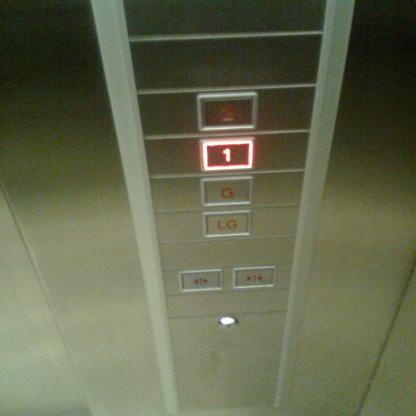1: (198, 136, 256, 172)
2: (194, 91, 258, 131)
G: (199, 176, 253, 207)
LG: (202, 209, 252, 238)
close: (231, 265, 276, 289)
open: (178, 268, 223, 292)
